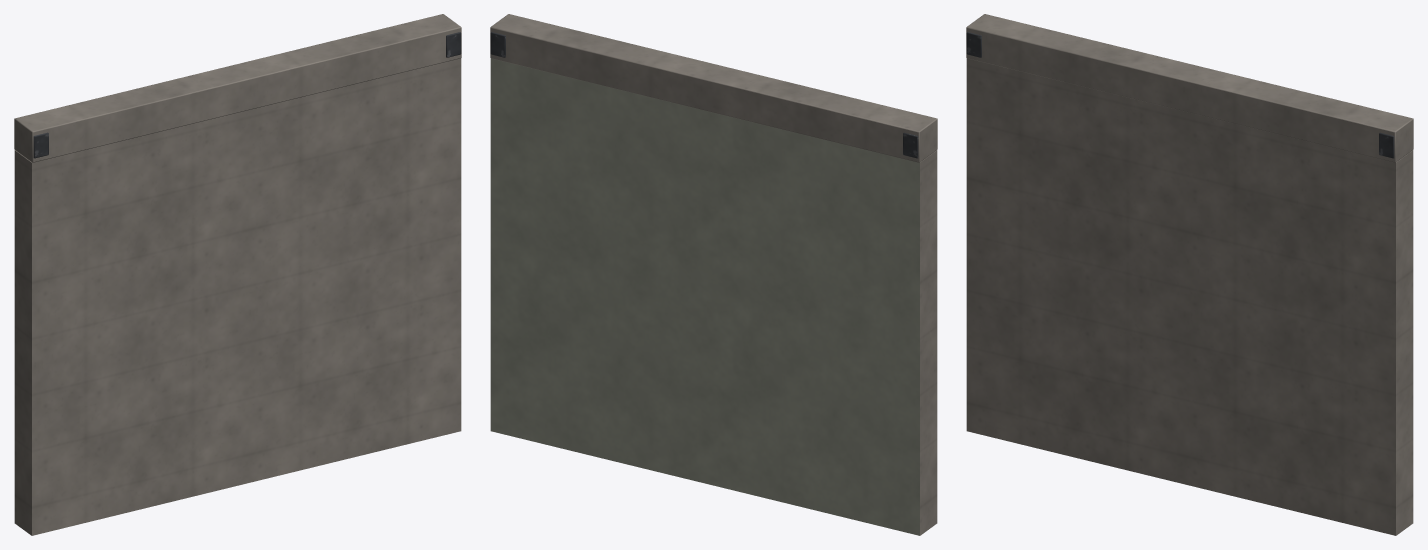
The model's file is BLD_Wall_Solid_4m.glb.
3 renders of one model, left to right at view 1: azimuth 30°, elevation 25°; view 2: azimuth 150°, elevation 25°; view 3: azimuth 330°, elevation 25°, orthographic.
Parts seen in each view (by area): view 1: BLD_Wall_Solid_4m, BLD_Wall_Solid_4m_HeaderBeam; view 2: BLD_Wall_Solid_4m, BLD_Wall_Solid_4m_HeaderBeam; view 3: BLD_Wall_Solid_4m, BLD_Wall_Solid_4m_HeaderBeam.
Part boxes in pixels (x1=…): BLD_Wall_Solid_4m: x1=14, y1=58, x2=461, y2=535; BLD_Wall_Solid_4m_HeaderBeam: x1=14, y1=14, x2=461, y2=162; BLD_Wall_Solid_4m: x1=490, y1=58, x2=937, y2=535; BLD_Wall_Solid_4m_HeaderBeam: x1=490, y1=14, x2=937, y2=162; BLD_Wall_Solid_4m: x1=966, y1=58, x2=1413, y2=535; BLD_Wall_Solid_4m_HeaderBeam: x1=966, y1=14, x2=1413, y2=162.
Size of the model in its own units: 4 by 3.6 by 0.32.
Materials: 5 (5 with a texture image).
